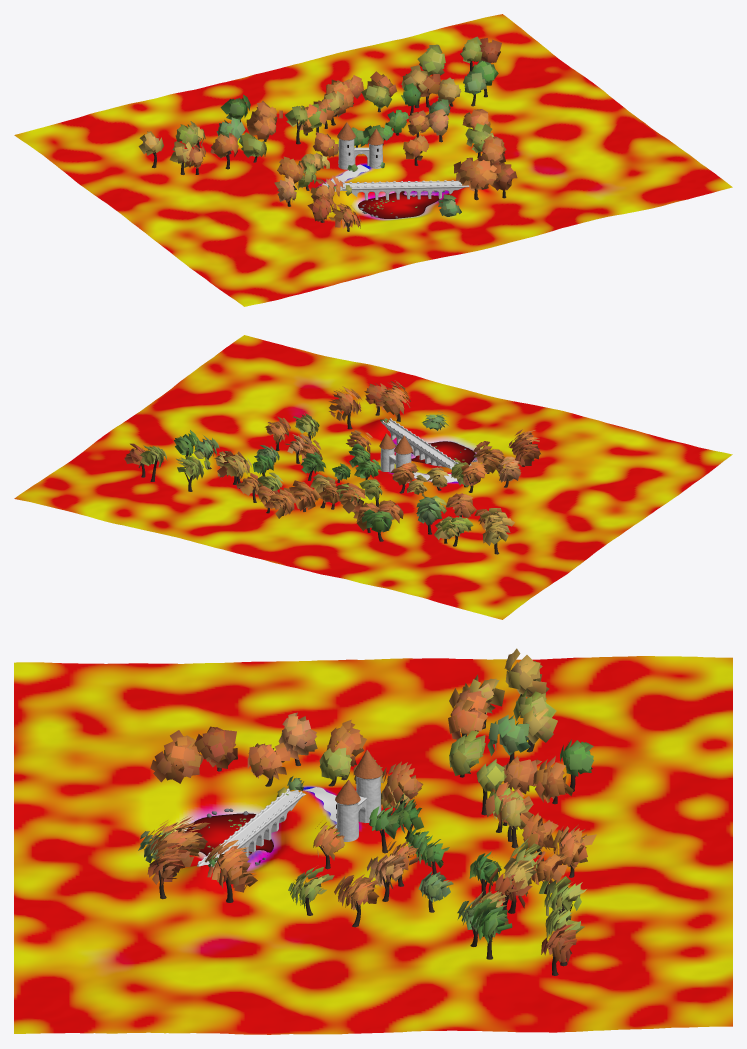
File: tiny_glade_geo.glb
3 views of the same model, one above another, from view 1: azimuth 30°, elevation 25°; view 2: azimuth 150°, elevation 25°; view 3: azimuth 270°, elevation 25° (orthographic). The views are drawn at different scales.
Visible parts, largest first — view 1: Terrain, Water, Bridge, Canopy0, Castle, Canopy48, Canopy1, Canopy32, Canopy21, Canopy10, Canopy31, Canopy2 (+4 smaller); view 2: Terrain, Bridge, Canopy0, Canopy1, Water, Canopy4, Canopy9, Canopy39, Canopy40, Canopy48, Canopy23, Canopy35 (+4 smaller); view 3: Terrain, Canopy10, Canopy1, Canopy0, Castle, Bridge, Water, Canopy9, Canopy23, Canopy4, Canopy11, Canopy29 (+29 smaller).
Boxes of the visible parts, x1,y1,x2,y2 form: Terrain: (14, 14, 732, 306); Water: (358, 191, 439, 218); Bridge: (342, 180, 469, 200); Canopy0: (453, 157, 498, 191); Castle: (338, 139, 382, 169); Canopy48: (417, 44, 445, 75); Canopy1: (477, 135, 506, 165); Canopy32: (246, 114, 276, 139); Canopy21: (465, 123, 494, 152); Canopy10: (329, 203, 361, 229); Canopy31: (220, 94, 250, 119); Canopy2: (491, 162, 517, 190); Terrain: (14, 335, 732, 619); Bridge: (381, 418, 458, 468); Canopy0: (376, 380, 410, 418); Canopy1: (329, 386, 361, 421); Water: (411, 441, 475, 464); Canopy4: (473, 441, 504, 473); Canopy9: (509, 438, 540, 466); Canopy39: (289, 480, 320, 510); Canopy40: (264, 488, 296, 518); Canopy48: (176, 451, 210, 480); Canopy23: (482, 517, 514, 545); Canopy35: (337, 483, 366, 513); Terrain: (14, 656, 732, 1034); Canopy10: (150, 730, 203, 783); Canopy1: (204, 840, 257, 892); Canopy0: (146, 816, 210, 870); Castle: (336, 776, 381, 841); Bridge: (197, 788, 303, 868); Water: (185, 813, 273, 865); Canopy9: (194, 726, 237, 768); Canopy23: (504, 648, 549, 697); Canopy4: (247, 742, 290, 779); Canopy11: (278, 712, 317, 759); Canopy29: (487, 715, 530, 755).
Size of what is drawn, in the model's own units: 120 by 14.27 by 98.
